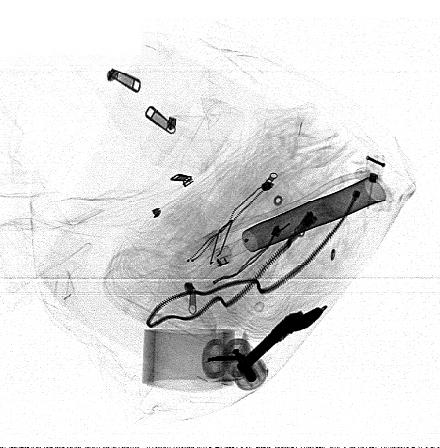Gun: (242, 304, 327, 372)
